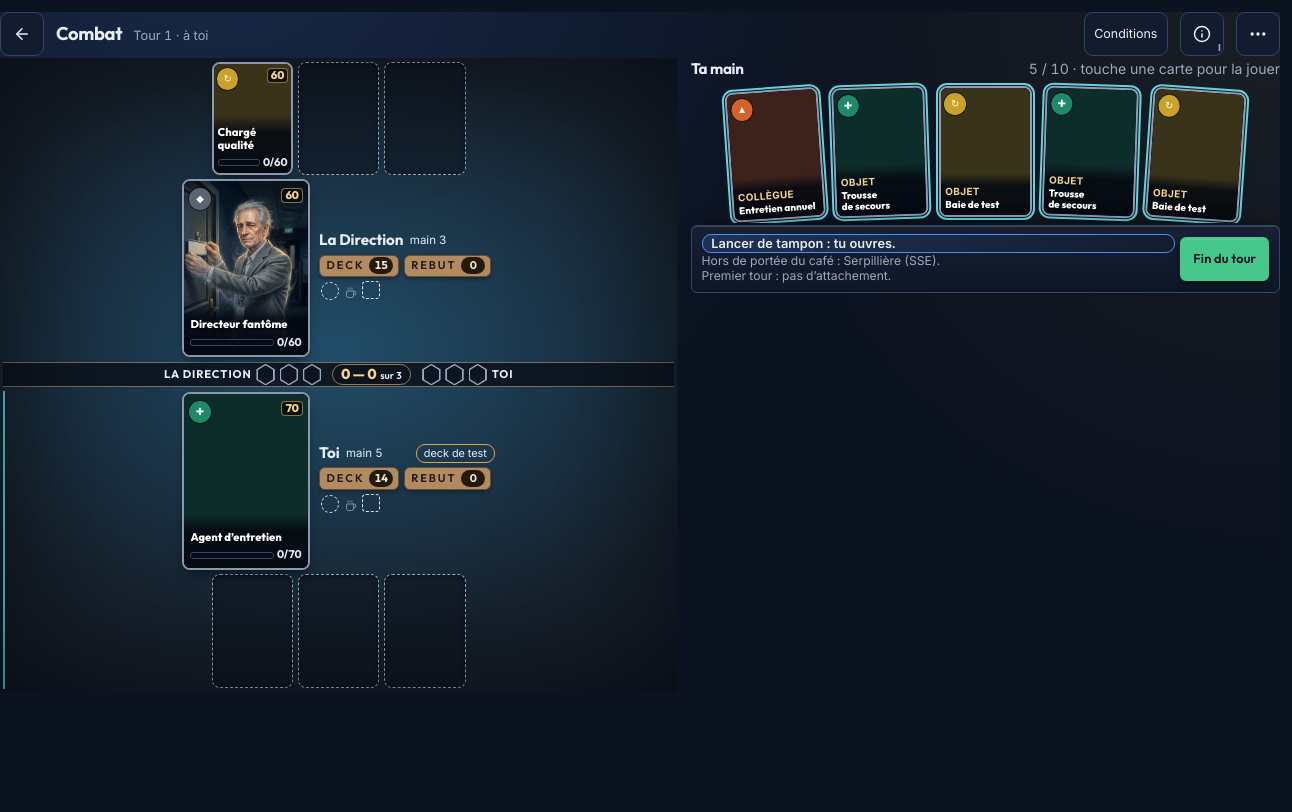
Test: Battle — poser une carte est un geste nommé (#169) › choisir une carte la désigne, la nomme et offre des gestes explicites
Click the button with class "is-playable" that starts with "Entretien annuel" at (775, 155), box [724, 87, 826, 224]
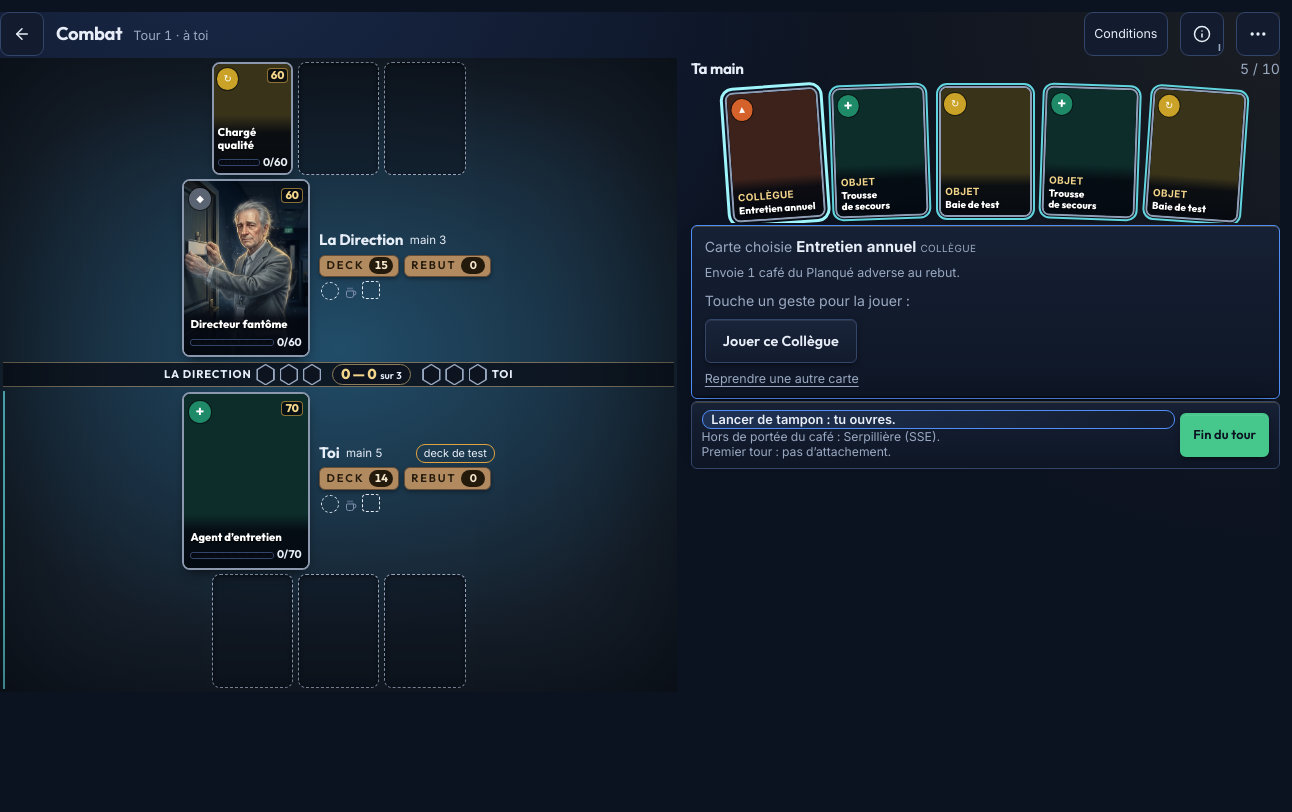
Expected: the text "Entretien annuel" next to "Carte choisie" is shown, [796, 237, 916, 256]
Expected: the button "Jouer ce Collègue" is shown, [705, 320, 857, 364]
